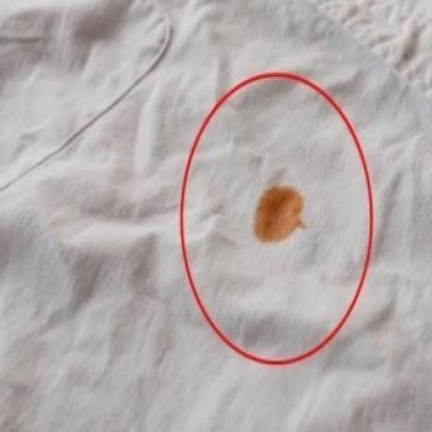kimchi: (243, 177, 322, 250)
